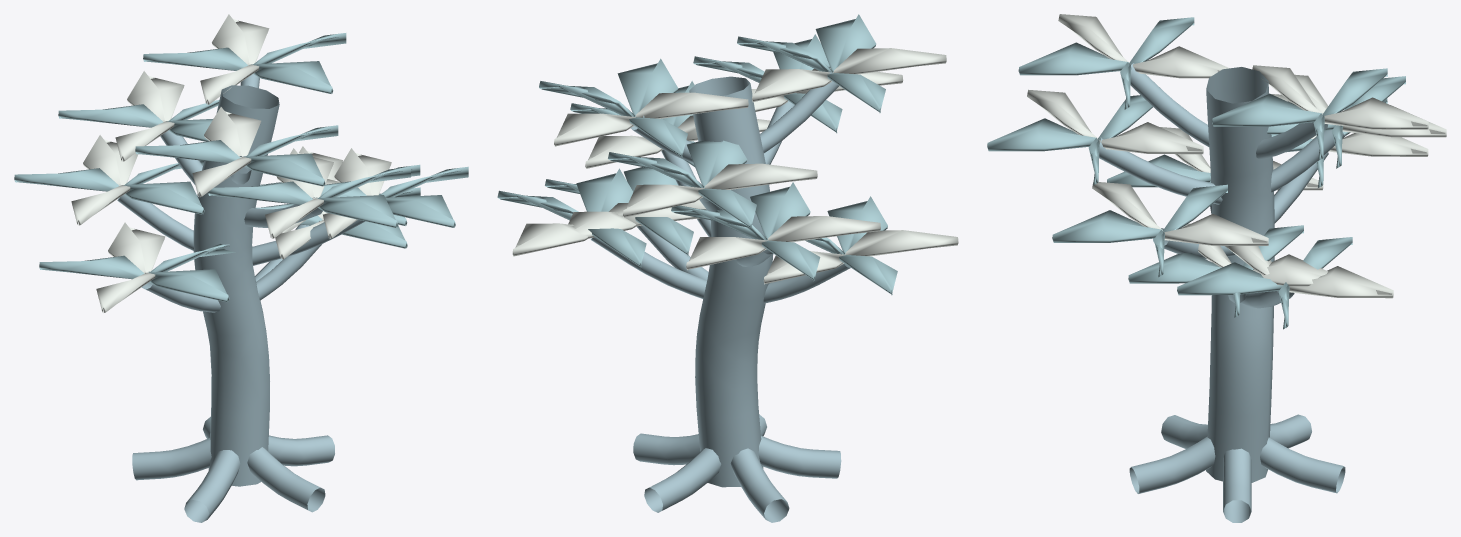
Rendered from bio_canopy_tree_16_far.glb.
The picture shows the model from 3 angles, left to right: view 1: azimuth 30°, elevation 25°; view 2: azimuth 150°, elevation 25°; view 3: azimuth 270°, elevation 25°; orthographic projection. The views are drawn at different scales.
Parts seen in each view (by area): view 1: Buttressed trunk, Broad canopy leaf.035, Broad canopy leaf.015, Broad canopy leaf.010, Broad canopy leaf.020, Broad canopy leaf.005, Broad canopy leaf.021, Broad canopy leaf.036, Broad canopy leaf.025, Broad canopy leaf.030, Broad canopy leaf.031, Broad canopy leaf.016 (+5 smaller); view 2: Buttressed trunk, Broad canopy leaf.035, Broad canopy leaf.015, Broad canopy leaf.005, Broad canopy leaf.030, Broad canopy leaf.016, Broad canopy leaf.031, Broad canopy leaf.036, Broad canopy leaf.006, Broad canopy leaf.040, Broad canopy leaf.021, Broad canopy leaf.020 (+7 smaller); view 3: Buttressed trunk, Broad canopy leaf.035, Broad canopy leaf.015, Broad canopy leaf.025, Broad canopy leaf.010, Broad canopy leaf.011, Broad canopy leaf.026, Broad canopy leaf.040, Broad canopy leaf.016, Broad canopy leaf.036, Broad canopy leaf, Broad canopy leaf.041 (+6 smaller).
Part boxes in pixels (<box>): Buttressed trunk: <box>117,74,365,522</box>; Broad canopy leaf.035: <box>135,125,338,186</box>; Broad canopy leaf.015: <box>143,33,346,93</box>; Broad canopy leaf.010: <box>208,166,410,227</box>; Broad canopy leaf.020: <box>39,243,235,302</box>; Broad canopy leaf.005: <box>14,160,204,214</box>; Broad canopy leaf.021: <box>96,222,165,312</box>; Broad canopy leaf.036: <box>192,107,261,197</box>; Broad canopy leaf.025: <box>321,166,468,227</box>; Broad canopy leaf.030: <box>58,100,219,141</box>; Broad canopy leaf.031: <box>115,71,184,161</box>; Broad canopy leaf.016: <box>200,14,269,104</box>; Buttressed trunk: <box>590,71,850,522</box>; Broad canopy leaf.035: <box>737,14,885,112</box>; Broad canopy leaf.015: <box>539,58,687,157</box>; Broad canopy leaf.005: <box>671,182,820,281</box>; Broad canopy leaf.030: <box>608,140,756,228</box>; Broad canopy leaf.016: <box>554,92,748,146</box>; Broad canopy leaf.031: <box>623,163,817,217</box>; Broad canopy leaf.036: <box>752,48,946,101</box>; Broad canopy leaf.006: <box>686,216,880,269</box>; Broad canopy leaf.040: <box>497,168,646,267</box>; Broad canopy leaf.021: <box>763,230,958,284</box>; Broad canopy leaf.020: <box>805,196,897,295</box>; Buttressed trunk: <box>1099,63,1345,522</box>; Broad canopy leaf.035: <box>1018,17,1194,109</box>; Broad canopy leaf.015: <box>1212,68,1387,160</box>; Broad canopy leaf.025: <box>1052,184,1227,277</box>; Broad canopy leaf.010: <box>987,95,1152,185</box>; Broad canopy leaf.011: <box>1027,89,1203,154</box>; Broad canopy leaf.026: <box>1092,182,1268,245</box>; Broad canopy leaf.040: <box>1177,237,1352,329</box>; Broad canopy leaf.016: <box>1252,65,1428,129</box>; Broad canopy leaf.036: <box>1058,14,1229,78</box>; Broad canopy leaf: <box>1128,225,1303,317</box>; Broad canopy leaf.041: <box>1225,246,1393,298</box>.
Bounding box in the file's own units: 3.06 × 2.99 × 3.05.
